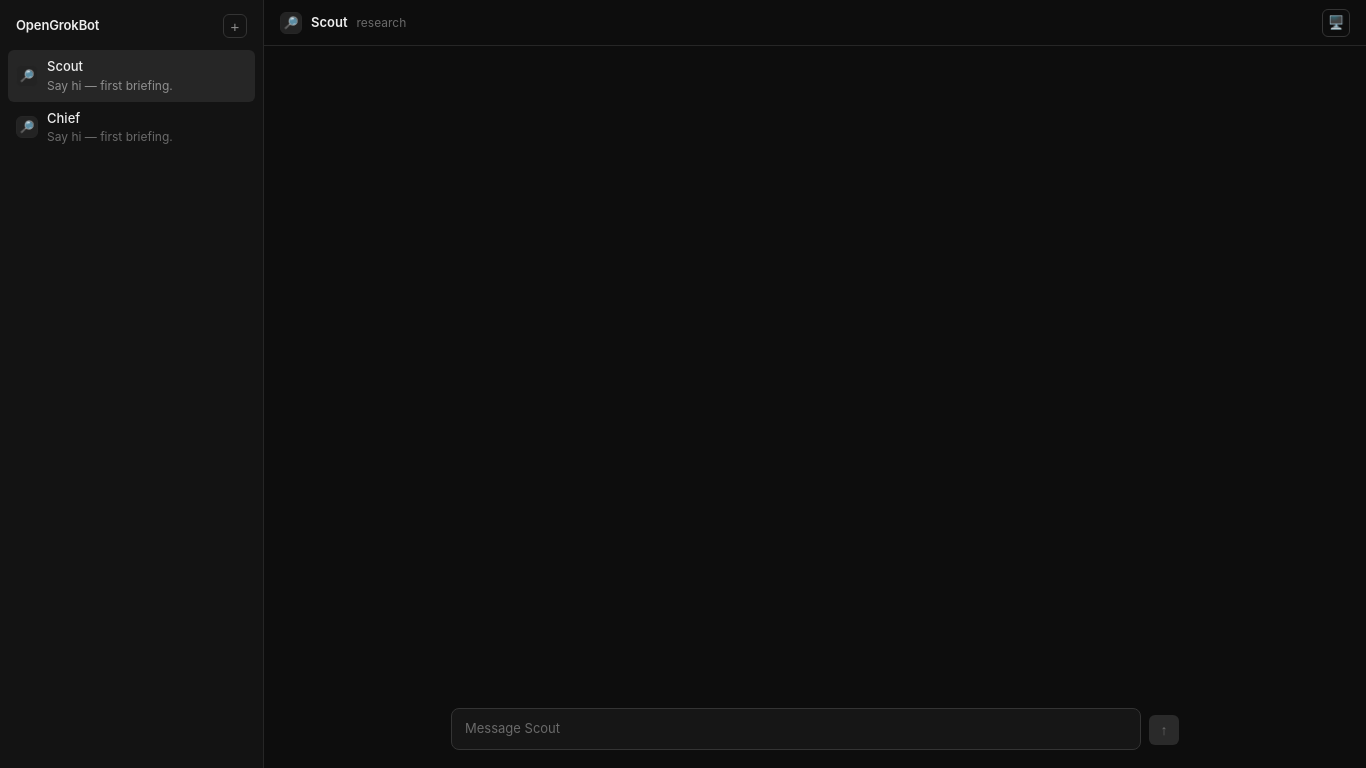
Test case: App › does not reopen a panel whose computer woke up after you moved on
Click the button named "Open its computer".
click(1336, 22)  # box [1322,8,1350,36]
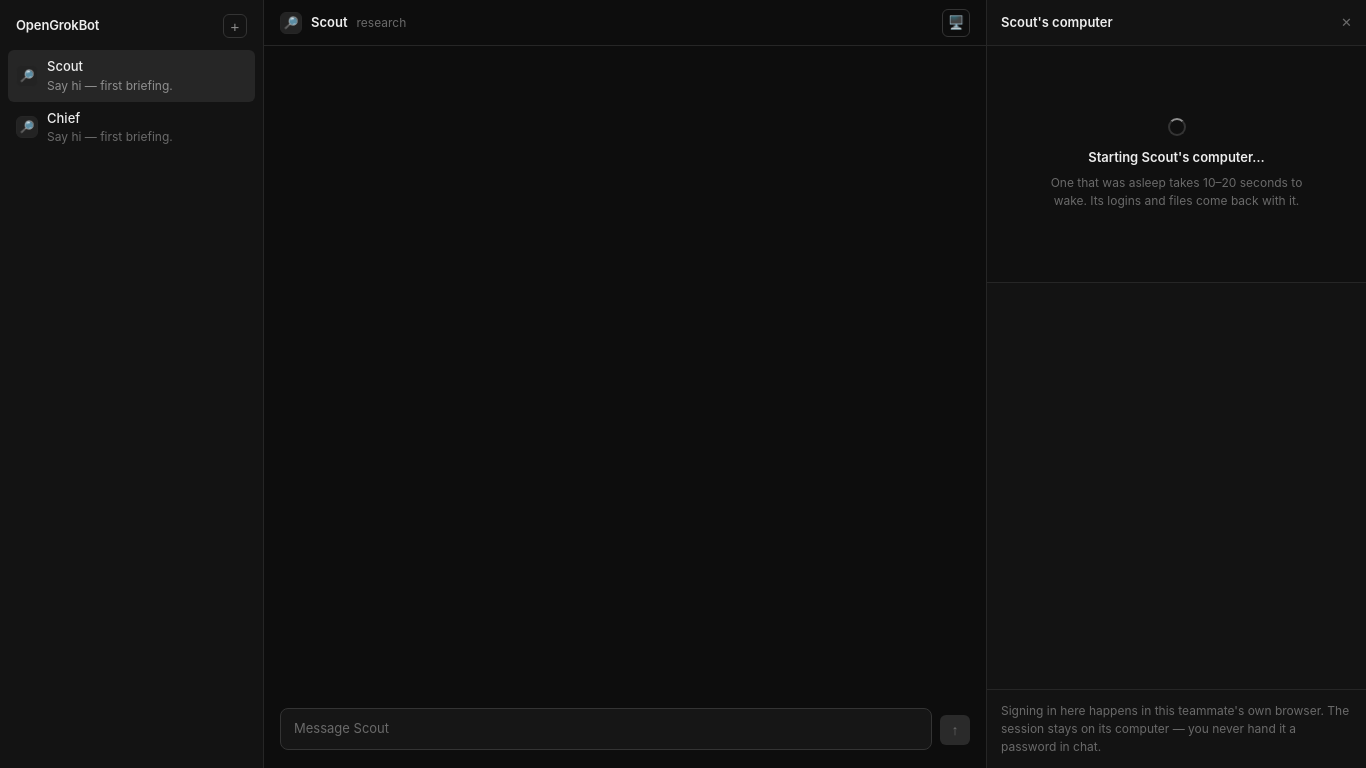
Now the element with class "computer-panel" is shown, box [986,0,1365,767]
Click the text "Chief".
click(64, 118)  # box [47,110,80,126]
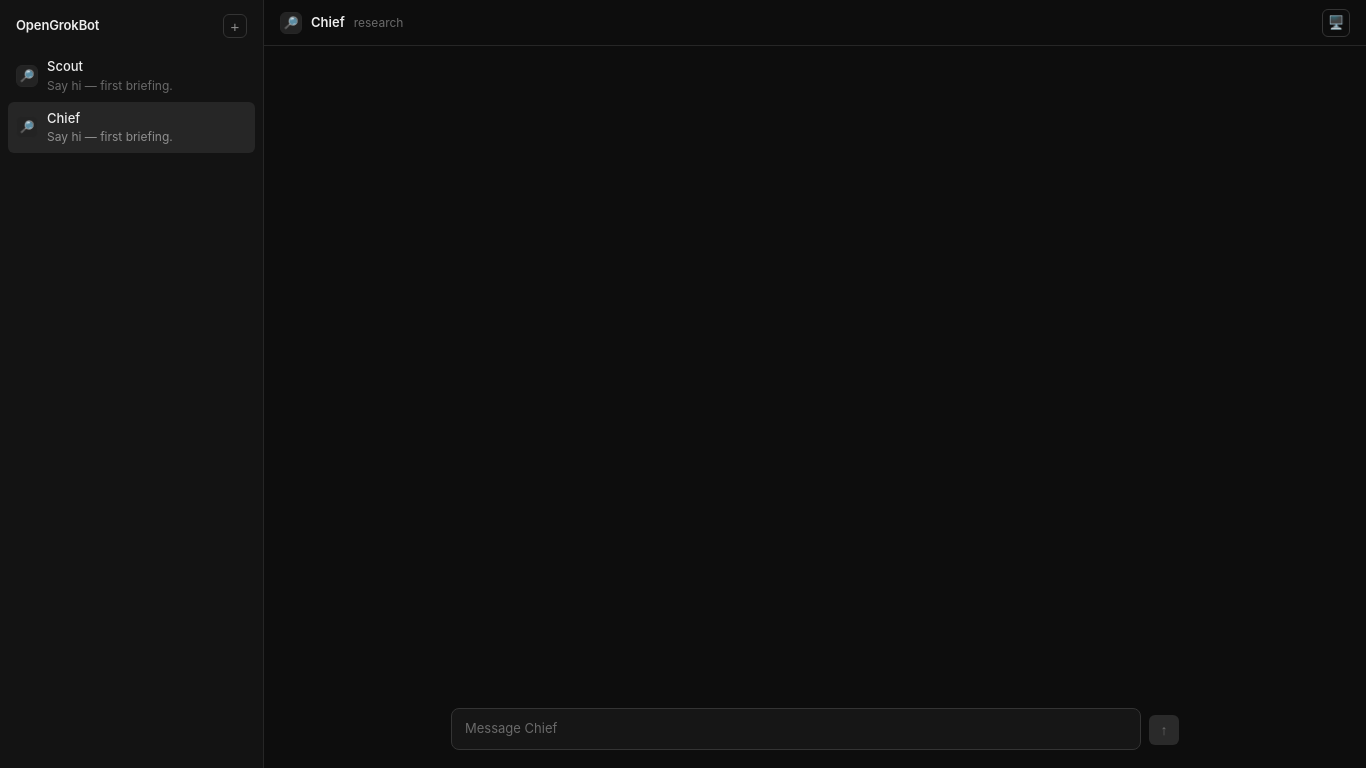
Now the element with class "computer-panel" is gone
